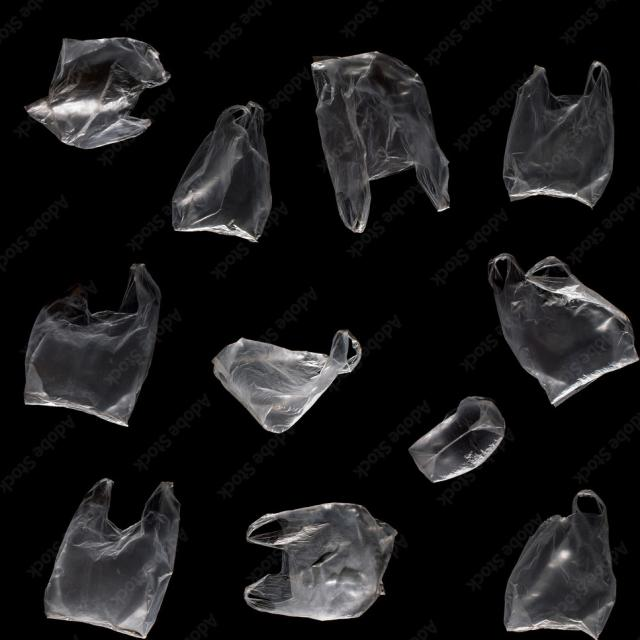Single-layer Plastic: (311, 51, 450, 232), (489, 254, 639, 406), (24, 264, 161, 426), (45, 479, 180, 638), (244, 502, 396, 620), (504, 490, 616, 639), (25, 38, 170, 149), (504, 61, 614, 207), (212, 330, 360, 433), (172, 101, 271, 242), (409, 396, 505, 482)
